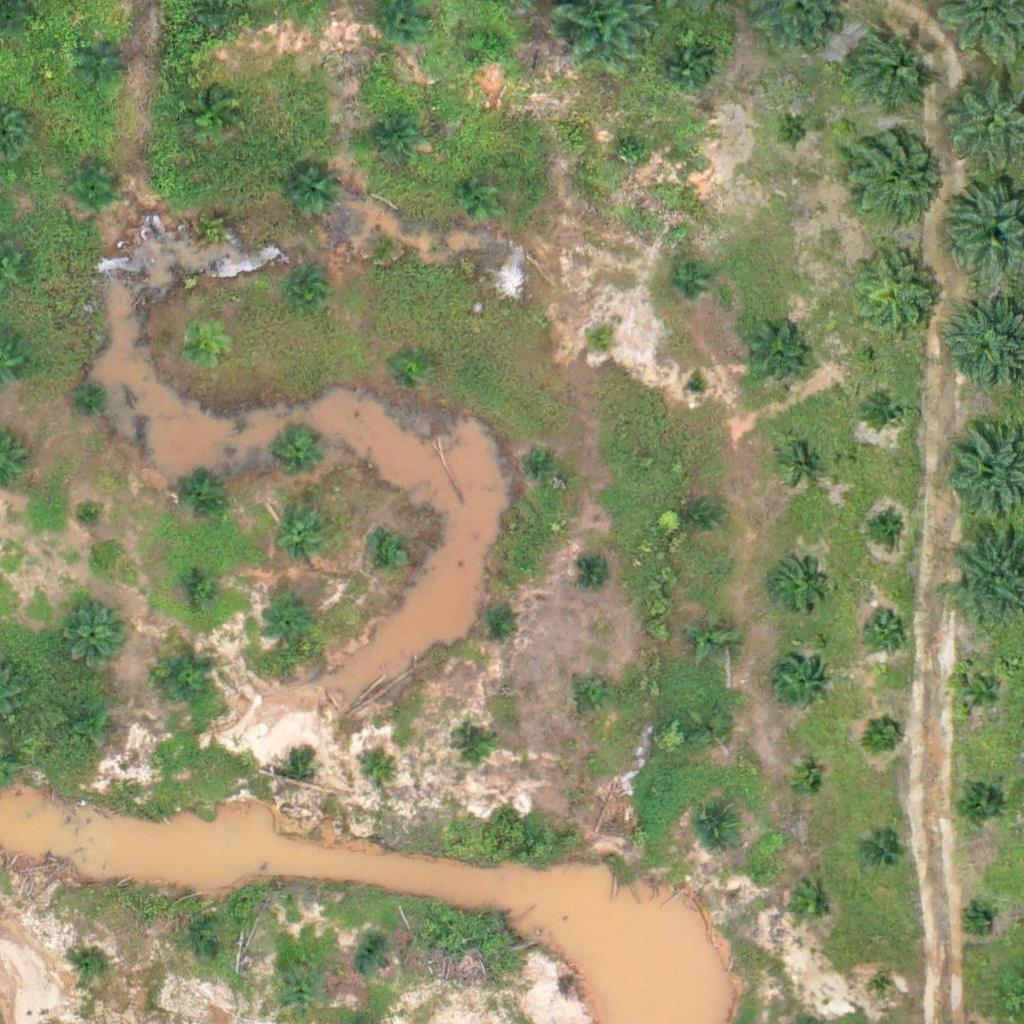Kelapa_Sawit: (840, 18, 940, 119), (842, 124, 942, 225), (847, 245, 947, 346), (742, 326, 805, 389), (59, 597, 122, 659), (769, 653, 831, 716), (160, 648, 222, 710), (186, 89, 236, 140), (283, 169, 333, 220), (178, 326, 228, 377), (273, 427, 323, 478), (661, 40, 711, 91), (772, 556, 822, 607), (785, 880, 835, 931), (688, 613, 738, 664), (79, 35, 129, 86), (191, 198, 241, 249), (171, 466, 221, 516), (278, 511, 328, 561), (264, 597, 314, 647), (953, 776, 1003, 826), (956, 667, 1006, 717), (861, 603, 911, 653), (367, 114, 417, 164), (59, 703, 109, 753), (678, 498, 716, 536), (72, 379, 110, 417), (470, 26, 508, 64), (461, 177, 499, 215), (613, 133, 651, 171), (775, 114, 813, 152), (581, 323, 619, 361), (183, 568, 221, 606), (872, 392, 910, 430), (72, 943, 110, 981), (351, 937, 389, 975), (76, 166, 114, 203), (371, 535, 408, 573), (788, 765, 826, 802), (866, 509, 903, 547), (784, 442, 821, 480), (578, 553, 616, 590), (454, 728, 491, 766), (695, 711, 733, 748), (868, 713, 905, 751), (665, 262, 702, 300), (362, 223, 399, 261), (73, 493, 110, 531), (358, 752, 395, 790), (195, 937, 232, 975), (280, 974, 317, 1012), (288, 273, 325, 310), (864, 837, 901, 874), (696, 809, 733, 846), (476, 601, 513, 638), (573, 679, 610, 716), (393, 346, 430, 383), (524, 444, 561, 481), (281, 758, 306, 784), (965, 907, 990, 932), (870, 976, 895, 1001), (684, 372, 709, 397)
